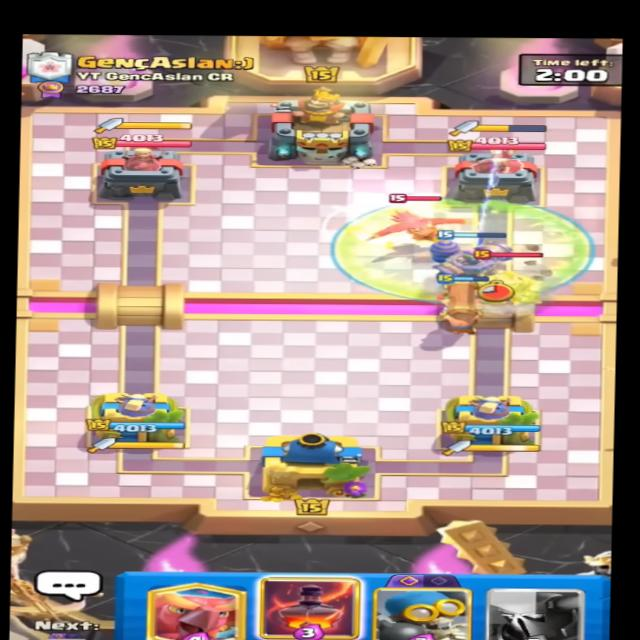mega-knight: (460, 249, 566, 307)
phoenix: (345, 191, 476, 243)
